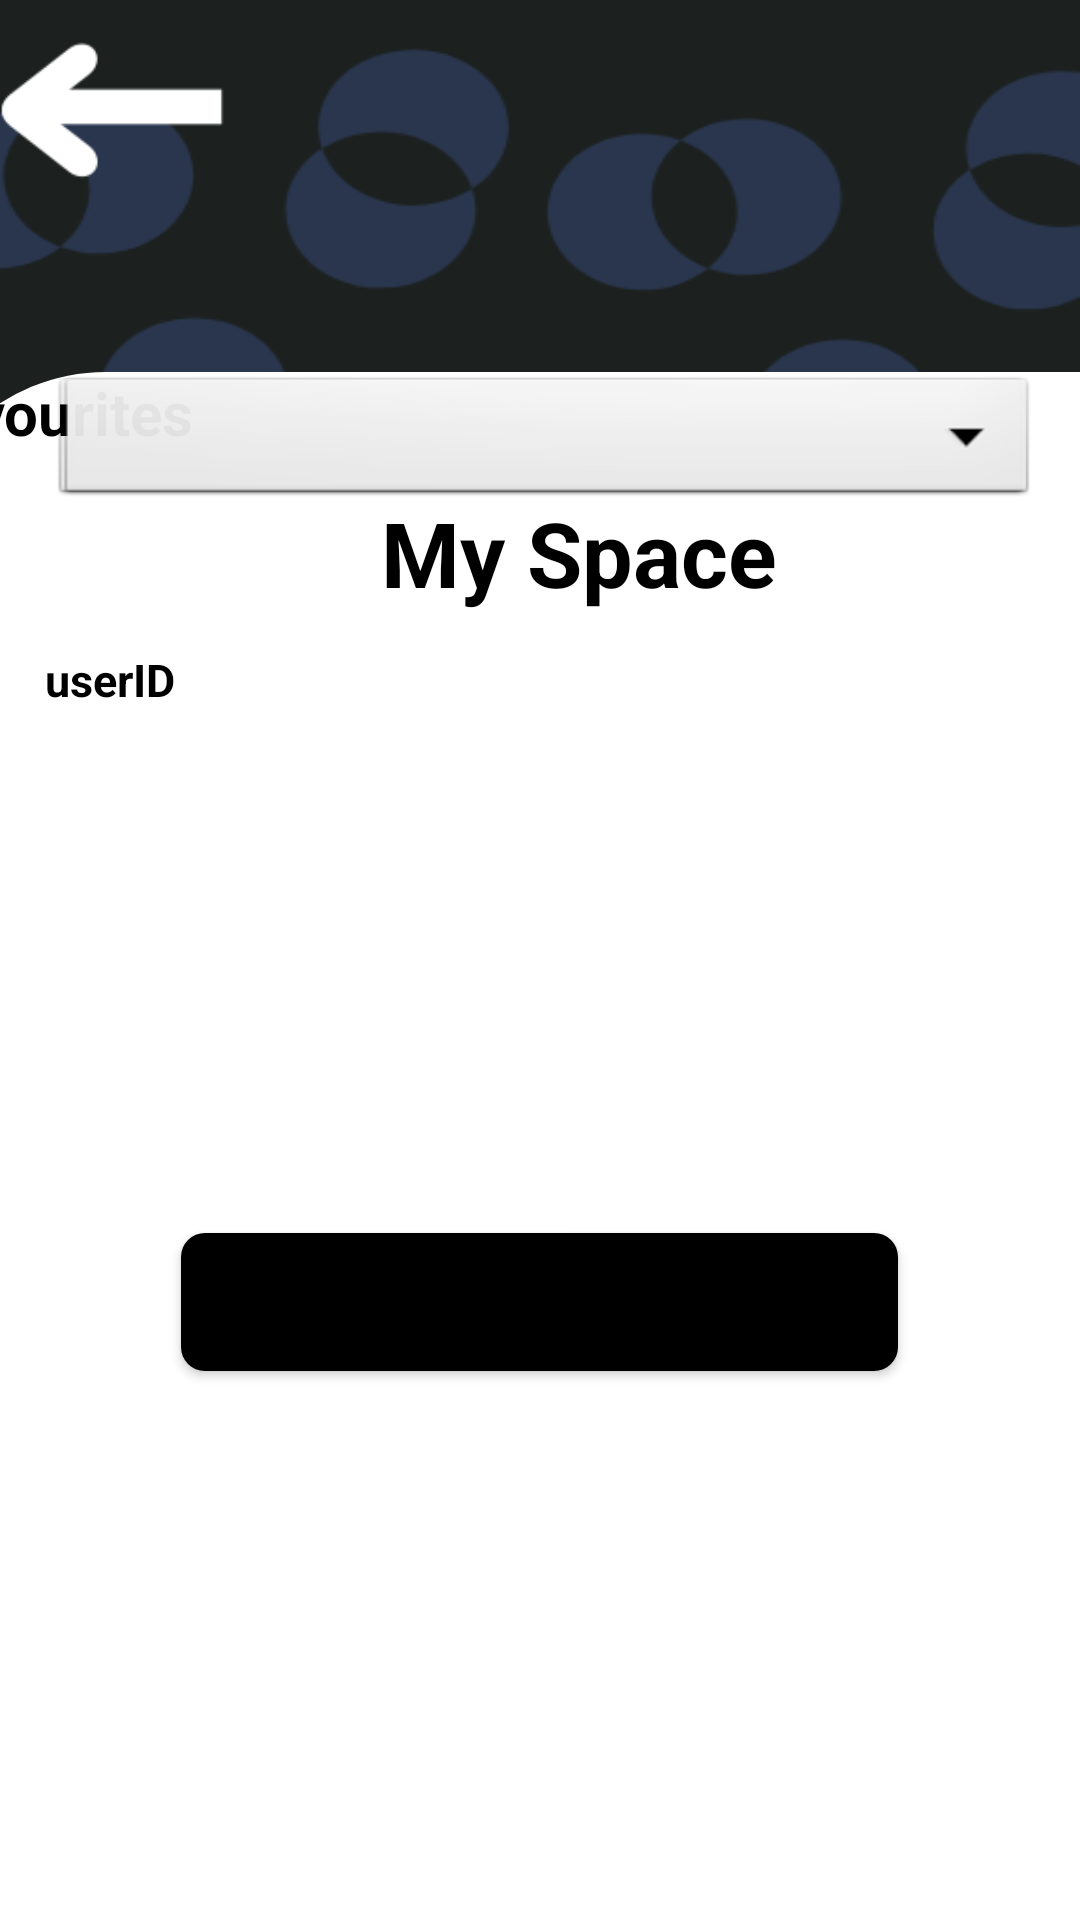

Icons on this 1080×1920 Android screen, each with its box as bbox(x1, y1, x2, y2):
backkey: bbox(0, 43, 223, 225)
